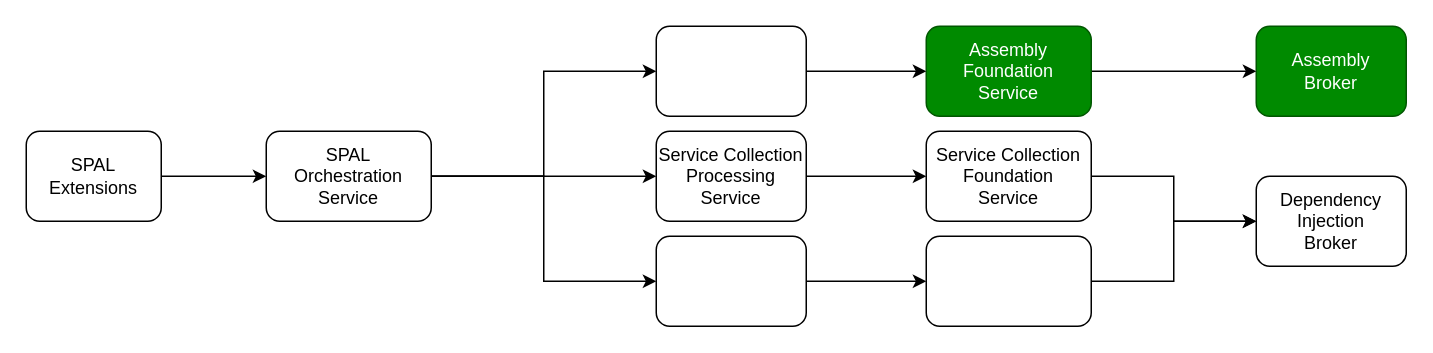
This 1433x353 diagram has some shape labels left out. The centre of each missing label's shape, as x and y in pixels:
"Assembly Processing Service" goes at (730,70).
"Service Provider Foundation Service" goes at (1008,280).
"Service Provider Processing Service" goes at (730,280).
